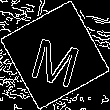M_N: (26, 24, 84, 86)
